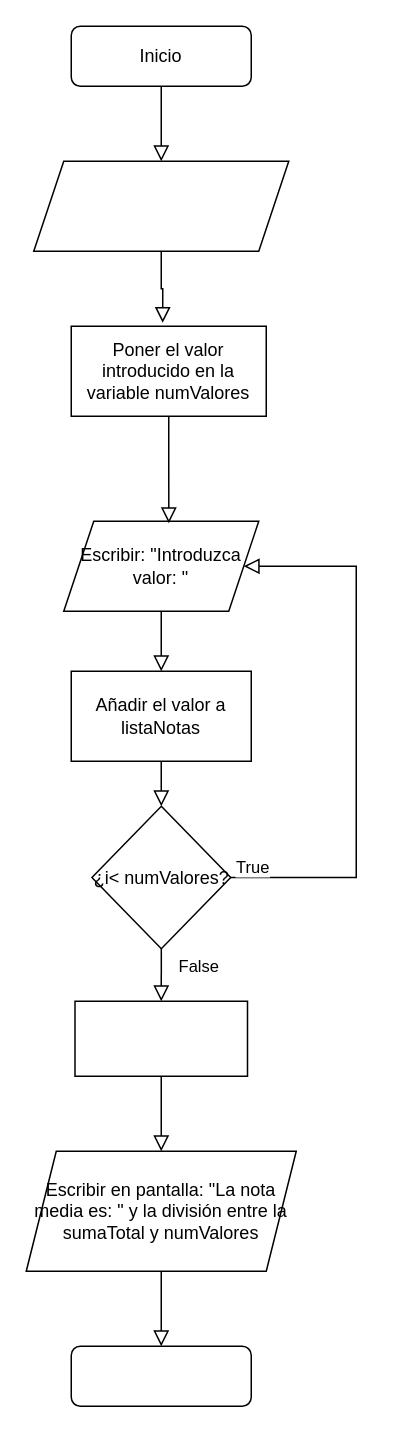
Some shapes in this 398 by 1433 pixel diagram are drawn without their labels. Each missing label, with the centre of its shape:
Escribir: "Introduzca el número de valores cuyo promedio desea calcular": pixel 160 205
Fin: pixel 160 1375
Recorrer la lista y calcular la suma de los valores: pixel 161 1038
